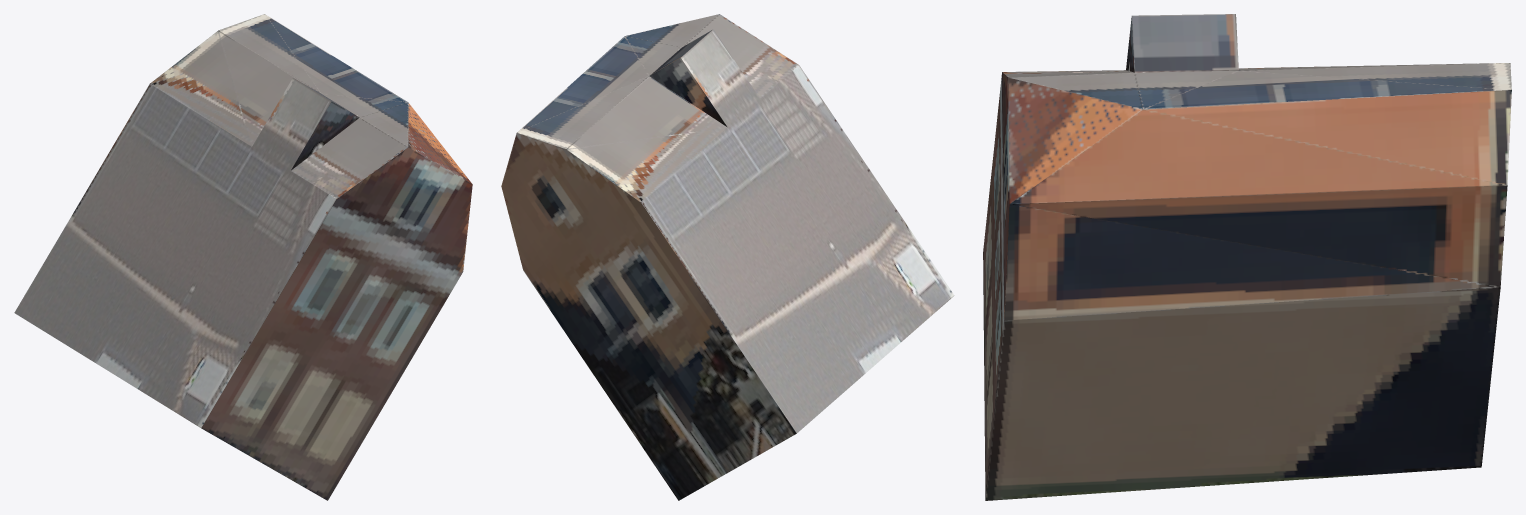
3 renders of one model, left to right at view 1: azimuth 30°, elevation 25°; view 2: azimuth 150°, elevation 25°; view 3: azimuth 270°, elevation 25°, orthographic. The views are drawn at different scales.
Visible parts, largest first — view 1: BAG_0599100000140595 (×5); view 2: BAG_0599100000140595 (×5); view 3: BAG_0599100000140595 (×4).
Part boxes in pixels (x1,y1,x2,y2): BAG_0599100000140595 (×5): [14, 14, 472, 500]; BAG_0599100000140595 (×5): [501, 14, 954, 500]; BAG_0599100000140595 (×4): [983, 14, 1511, 500].
Bounding box in the file's own units: 9.88 × 11.08 × 10.14.
1 material, 1 textured.
